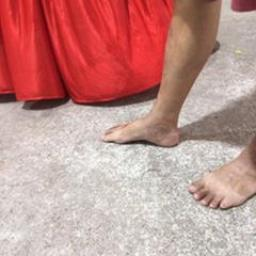Medial View -Right Foot-: (95, 101, 192, 158)
